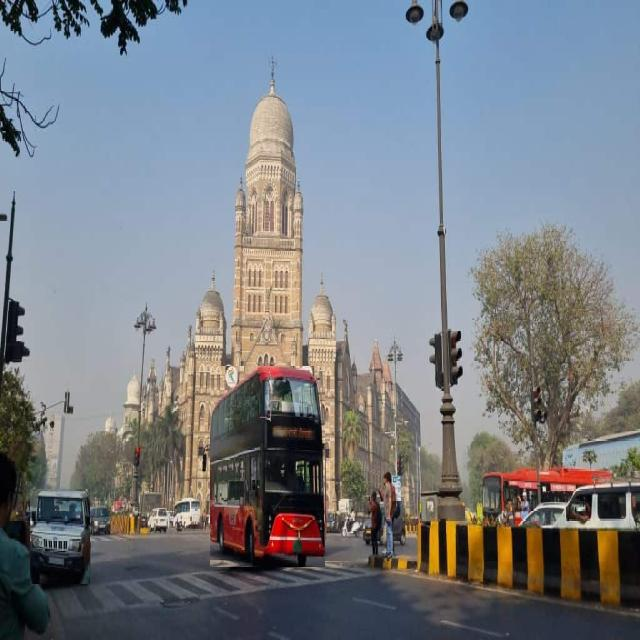bus: (210, 366, 325, 567), (482, 467, 612, 524)
car: (30, 489, 90, 584)
